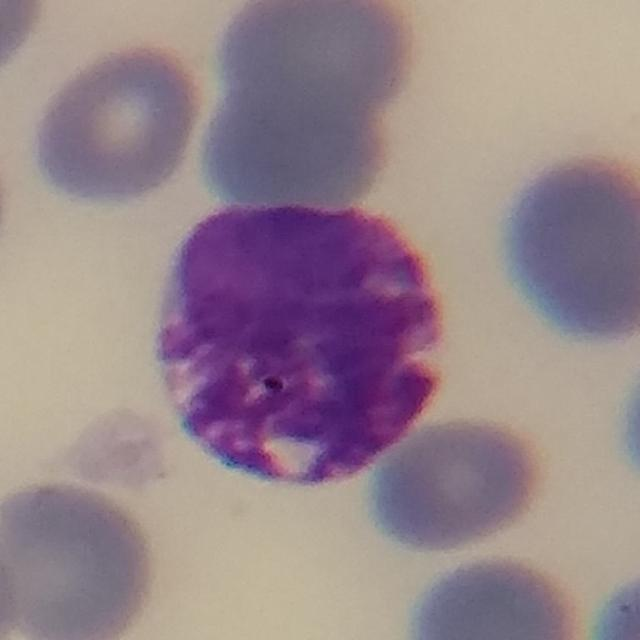Basophil: (135, 181, 466, 511)
RBC: (199, 2, 429, 184), (24, 38, 210, 210), (488, 143, 640, 351), (360, 412, 554, 556), (0, 473, 165, 640), (400, 547, 592, 640), (59, 405, 190, 497), (0, 0, 53, 87), (611, 345, 640, 499), (584, 562, 640, 640), (0, 526, 24, 639)
